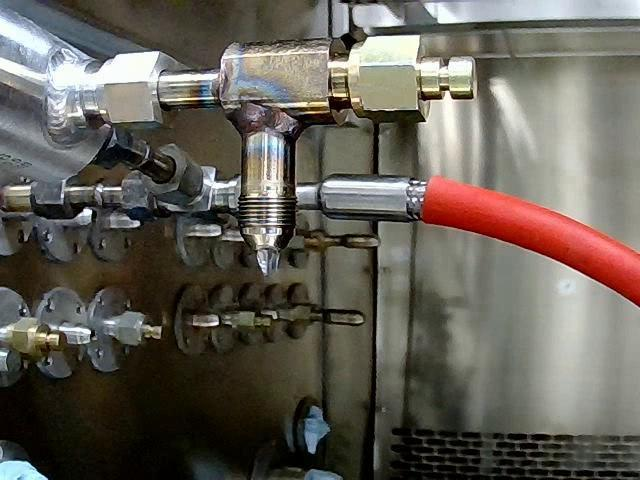water drop: (256, 250, 280, 279)
